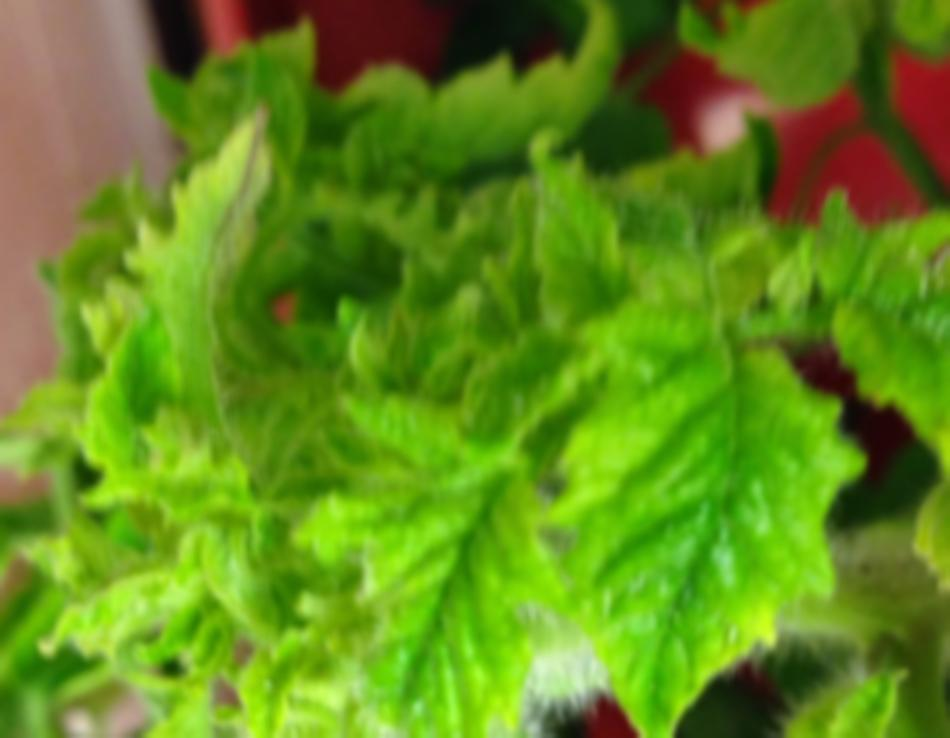Tomato leaf yellow virus: (579, 262, 877, 738), (350, 366, 560, 738), (830, 197, 950, 641)
